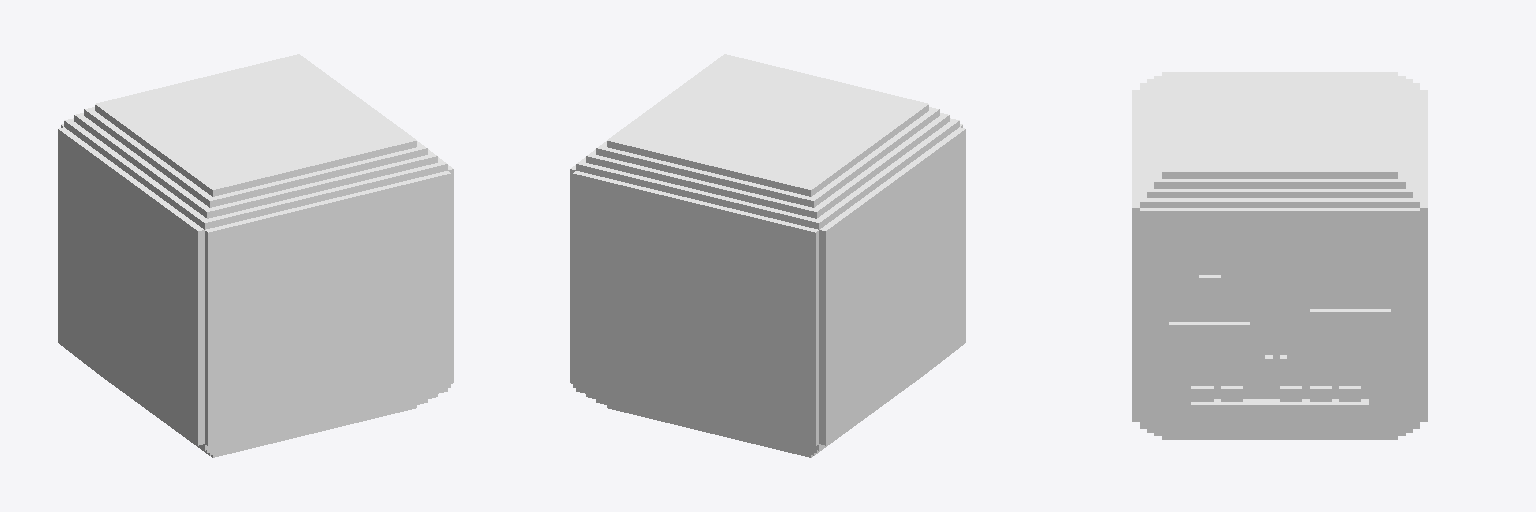
File: GreenZombie.obj
3 renders of one model, left to right at view 1: azimuth 30°, elevation 25°; view 2: azimuth 150°, elevation 25°; view 3: azimuth 270°, elevation 25°, orthographic.
Visible parts, largest first — view 1: GreenZombie; view 2: GreenZombie; view 3: GreenZombie.
Boxes of the visible parts, box(x1,y1,x2,y2) form: GreenZombie: box(58, 54, 453, 457); GreenZombie: box(570, 54, 965, 457); GreenZombie: box(1132, 72, 1427, 439).
Bounding box in the file's own units: 40 × 40 × 40.